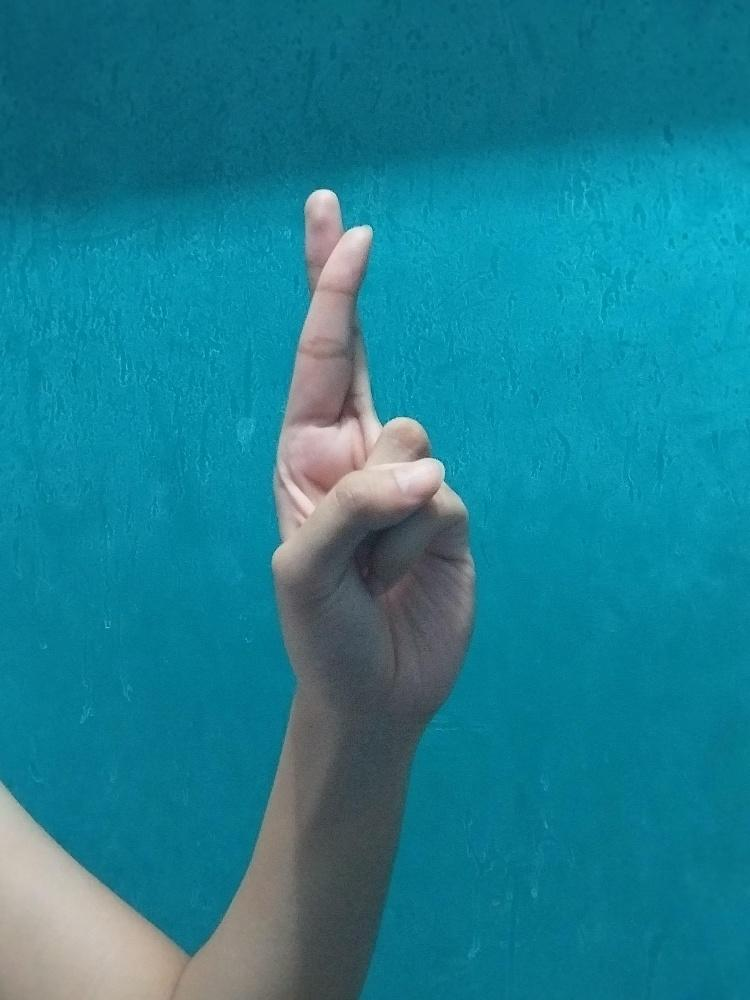r: (270, 185, 480, 734)
